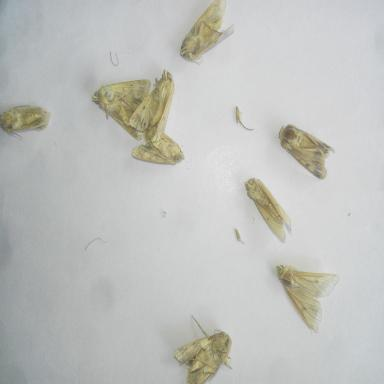abw: (273, 261, 341, 338), (171, 309, 237, 383), (89, 75, 154, 144), (176, 0, 241, 67), (128, 66, 177, 149), (277, 118, 337, 183), (243, 174, 295, 246), (128, 120, 190, 170), (1, 98, 52, 145)
